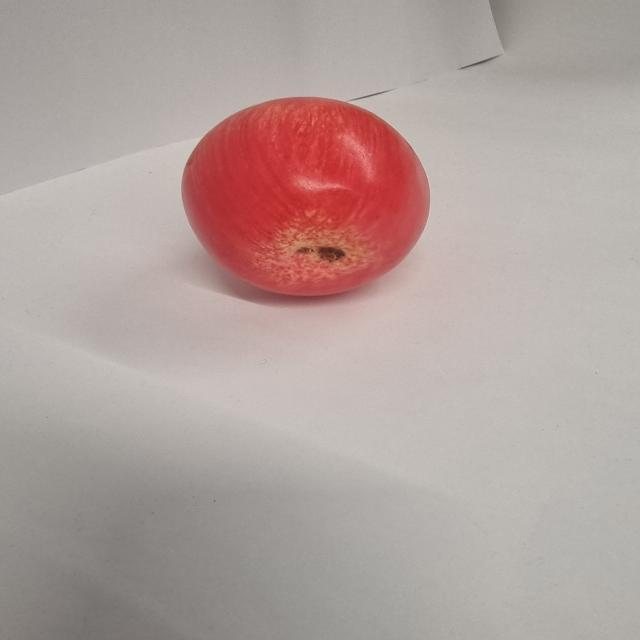apple: (182, 95, 432, 298)
